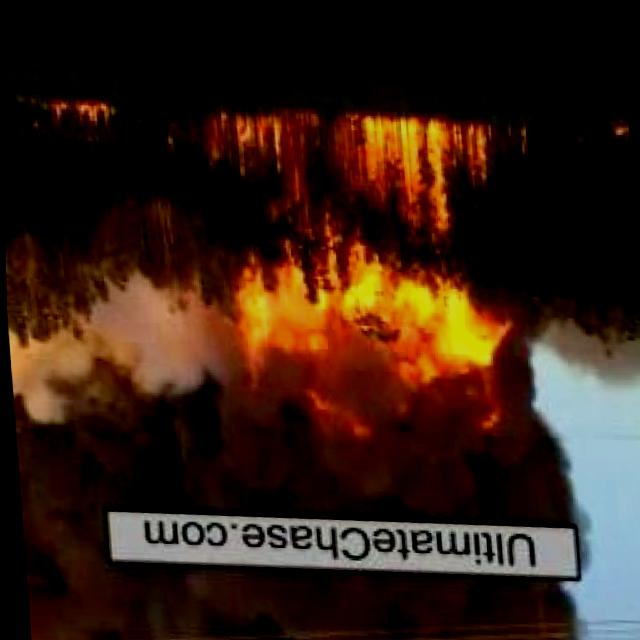Fire: (201, 85, 504, 435), (43, 92, 117, 139)
Smoke: (12, 396, 586, 553), (21, 529, 579, 640)
